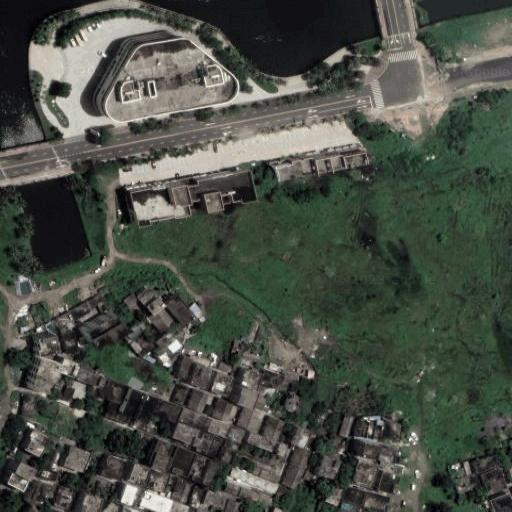building: (92, 33, 226, 117), (131, 170, 258, 228), (276, 151, 368, 181), (57, 295, 108, 326), (356, 412, 403, 445), (82, 309, 120, 342), (165, 295, 198, 331), (448, 458, 478, 495), (24, 356, 52, 391), (187, 454, 217, 486), (153, 331, 182, 362), (195, 430, 226, 458), (168, 446, 196, 477), (139, 488, 173, 512), (179, 408, 213, 431), (151, 440, 177, 470), (23, 429, 50, 457), (64, 446, 92, 473), (29, 479, 56, 507), (352, 461, 380, 488), (173, 421, 203, 446), (235, 407, 262, 434), (314, 454, 341, 481), (212, 398, 240, 424), (100, 377, 128, 403), (76, 366, 107, 389), (151, 308, 177, 335), (144, 469, 171, 495), (140, 289, 166, 315), (211, 371, 236, 398), (102, 456, 128, 481), (482, 468, 507, 494), (135, 393, 158, 421), (155, 400, 184, 422), (472, 453, 502, 474), (115, 289, 140, 314), (223, 425, 246, 452), (247, 432, 277, 452), (260, 416, 284, 441), (123, 389, 144, 417), (289, 427, 313, 451), (128, 463, 151, 488), (202, 490, 230, 510), (282, 466, 305, 490), (172, 478, 195, 502), (122, 482, 145, 506), (260, 369, 285, 391), (279, 389, 300, 415), (352, 441, 380, 460), (362, 493, 390, 512), (54, 487, 77, 510), (187, 363, 209, 387), (289, 447, 311, 471), (274, 488, 296, 512), (324, 482, 345, 507), (187, 390, 209, 413), (241, 368, 264, 390), (378, 472, 400, 495), (237, 389, 259, 411), (208, 417, 231, 438), (173, 385, 193, 407), (60, 358, 82, 378), (343, 488, 365, 508), (489, 493, 512, 512), (79, 494, 103, 512), (188, 484, 206, 508), (39, 336, 59, 357), (6, 462, 28, 481), (177, 356, 195, 379), (273, 441, 295, 459), (1, 472, 21, 490), (63, 332, 79, 354), (338, 415, 353, 438), (238, 487, 261, 501), (168, 498, 191, 512), (105, 399, 121, 419), (22, 397, 37, 417), (253, 396, 268, 414), (99, 500, 120, 512), (242, 350, 260, 363), (189, 304, 203, 320), (224, 483, 241, 495), (198, 501, 215, 512), (226, 500, 241, 512), (259, 494, 275, 505), (118, 505, 142, 512), (341, 503, 353, 512)
